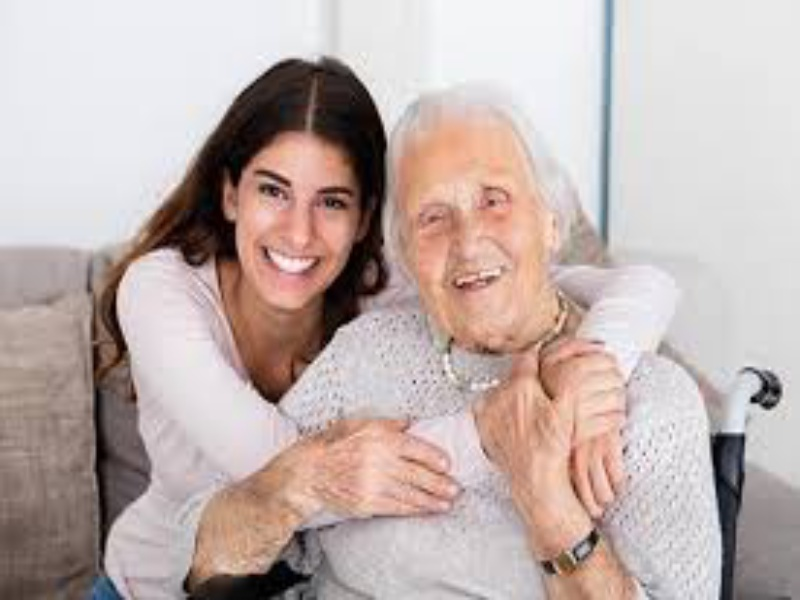TsisyArotava: (388, 132, 559, 344), (209, 115, 374, 316)
